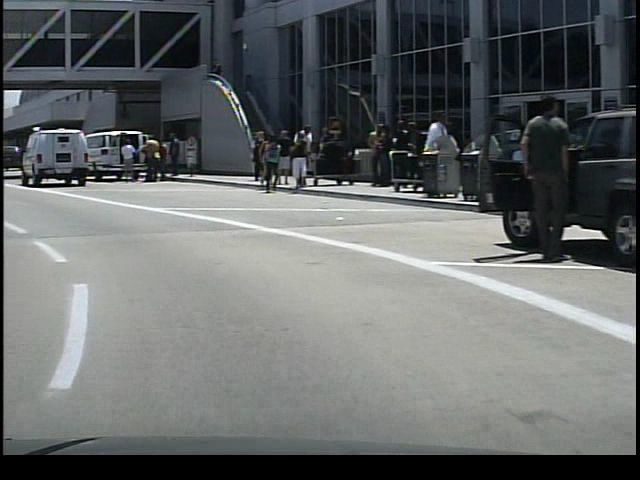person: (503, 84, 574, 268), (414, 109, 449, 199), (289, 123, 315, 187), (283, 139, 305, 191), (137, 133, 158, 185), (160, 131, 182, 179), (117, 136, 135, 186), (245, 126, 260, 184)
